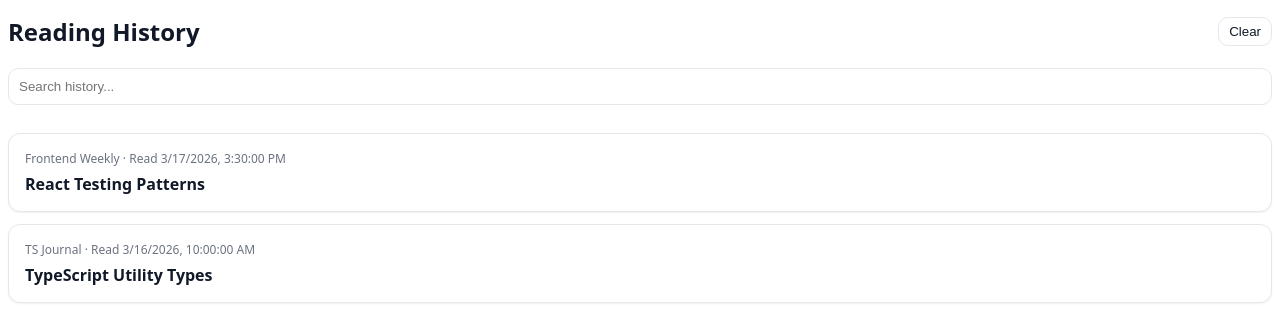
Test: HistoryView › clears history and updates the UI
What coordinates should you click on to do the following:
click the button "Clear"
I would click on:
 (1245, 31)
Its box is [1218,17,1272,46].
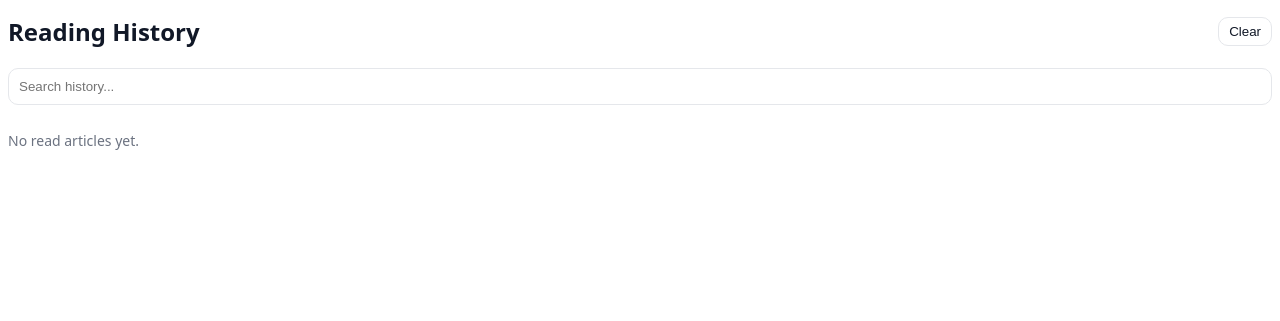
Result: the text "No read articles yet." is shown at [8,131,139,150]
